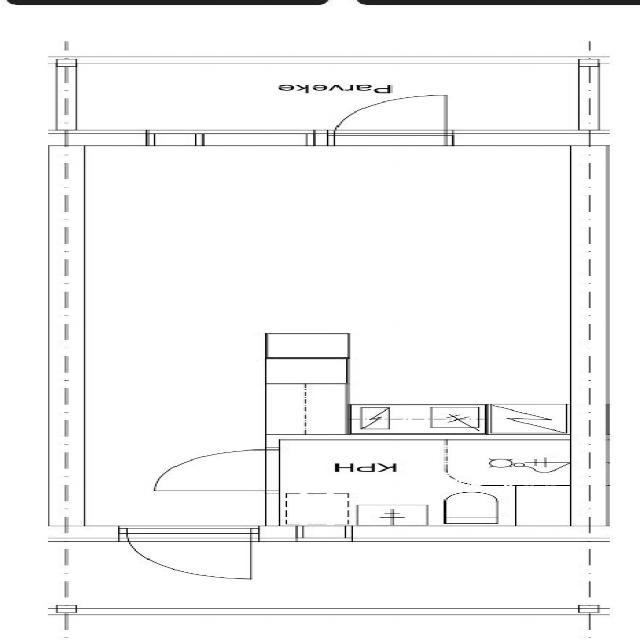door: (126, 526, 250, 586), (334, 90, 445, 146), (156, 450, 278, 490)
